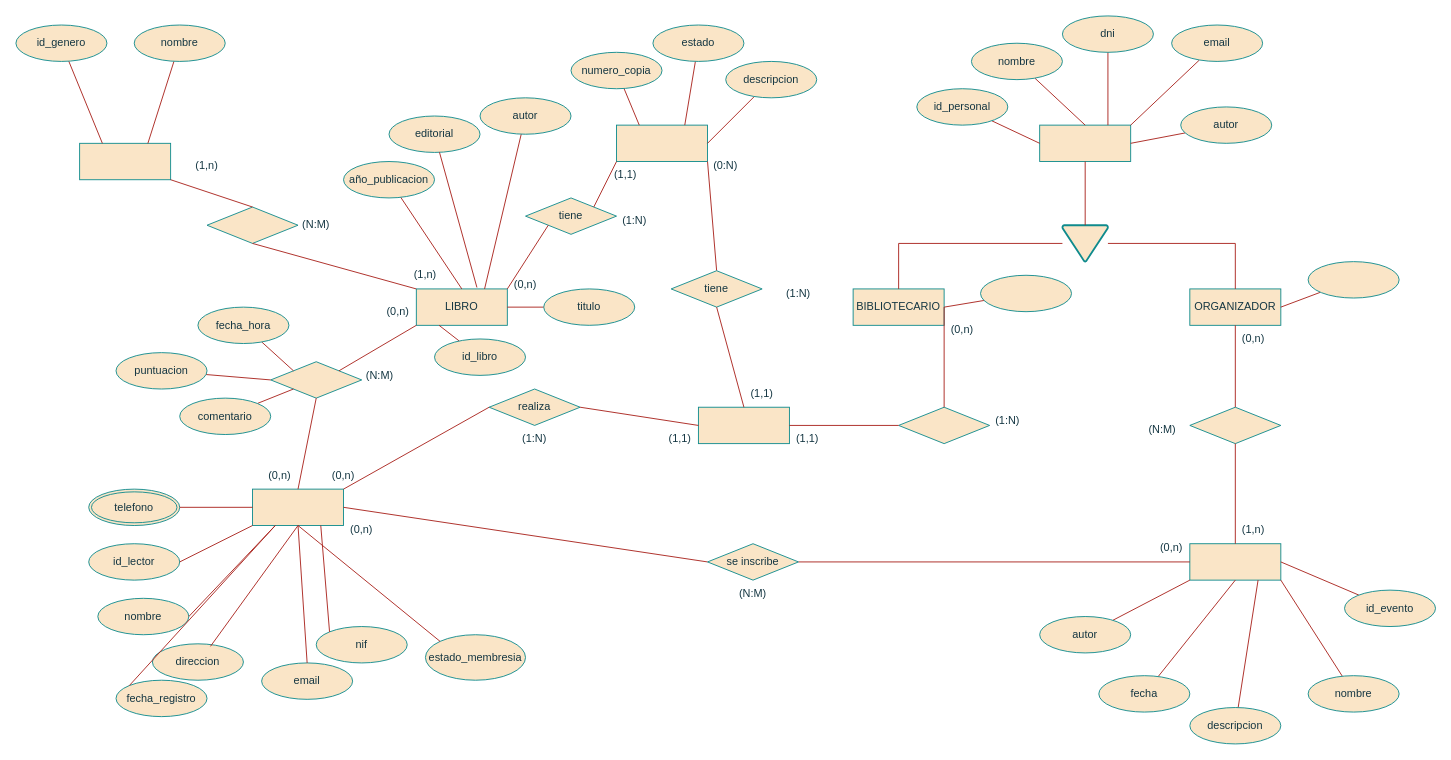
This 1451x760 diagram has some shape labels left out. The shapes that lost their labels are listed below. From the top down, each one's centre as x and y in pixels, then its label:
[125,161]: GENERO
[662,143]: COPIA
[1085,143]: PERSONAL
[252,224]: pertenece
[1026,293]: horario
[1353,279]: tipo_contrato
[316,379]: califica
[743,425]: PRESTAMO
[944,425]: registra
[1235,425]: organiza
[298,507]: LECTOR
[1235,561]: EVENTO
